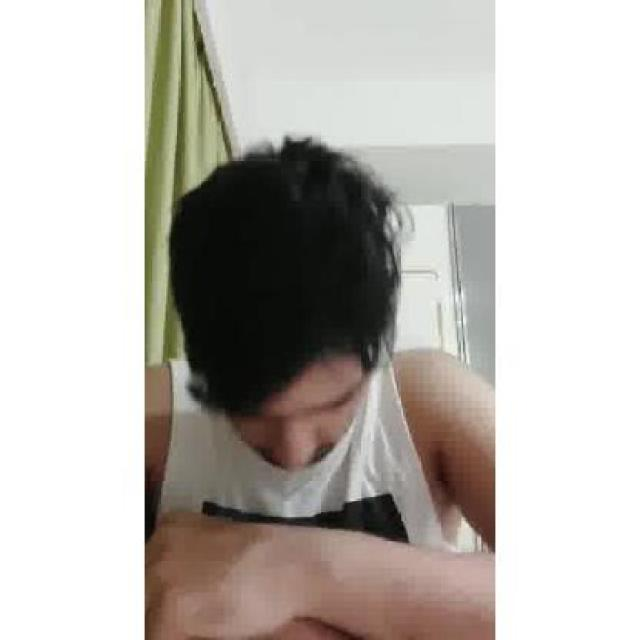inattentif: (173, 137, 396, 472)
